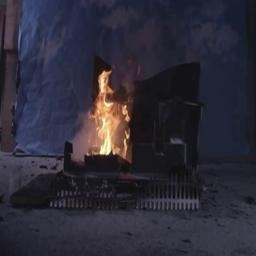fire: (84, 62, 133, 159)
